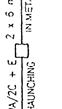Cable Termination Box: (13, 41, 34, 61)
